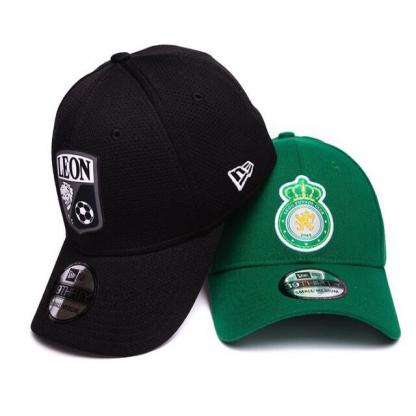cap: (31, 44, 282, 362), (210, 134, 402, 376)
